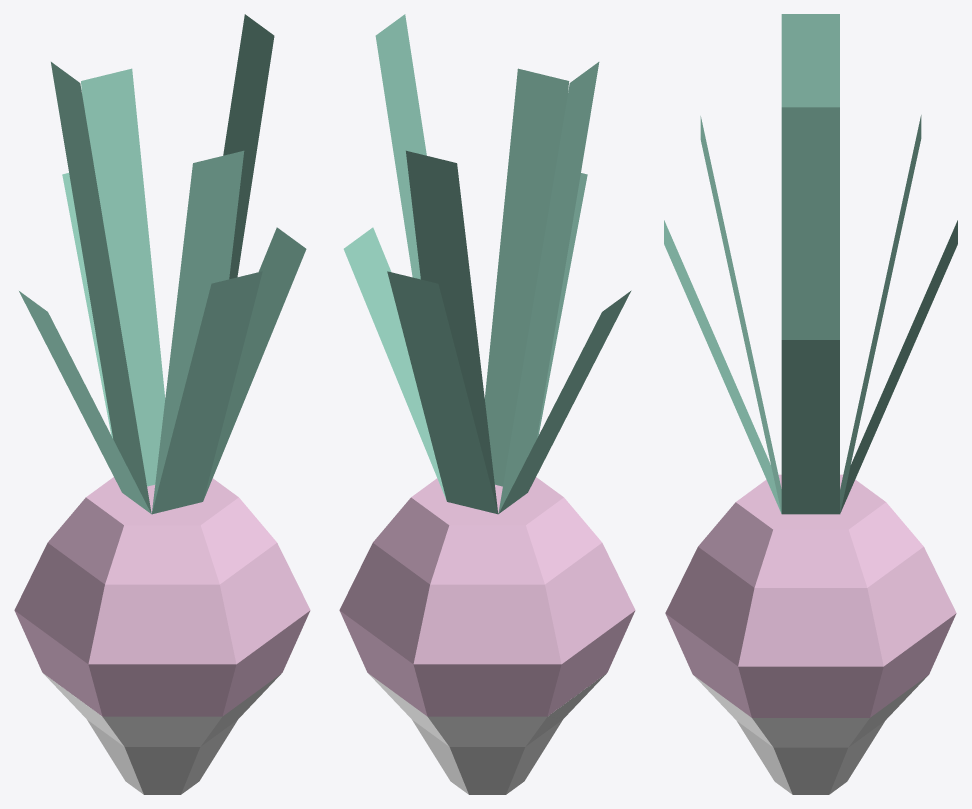
File: beet.gltf
The picture shows the model from 3 angles, left to right: view 1: azimuth 30°, elevation 25°; view 2: azimuth 150°, elevation 25°; view 3: azimuth 270°, elevation 25°; orthographic projection.
Parts seen in each view (by area): view 1: beet; view 2: beet; view 3: beet.
Boxes of the visible parts, x1,y1,x2,y2 form: beet: [14, 14, 310, 794]; beet: [339, 14, 635, 794]; beet: [664, 14, 957, 794].
Bounding box in the file's own units: 0.6857 × 1.86 × 0.6857.
